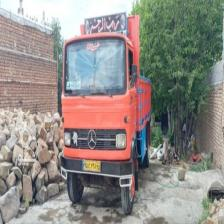plate: (82, 159, 102, 172)
